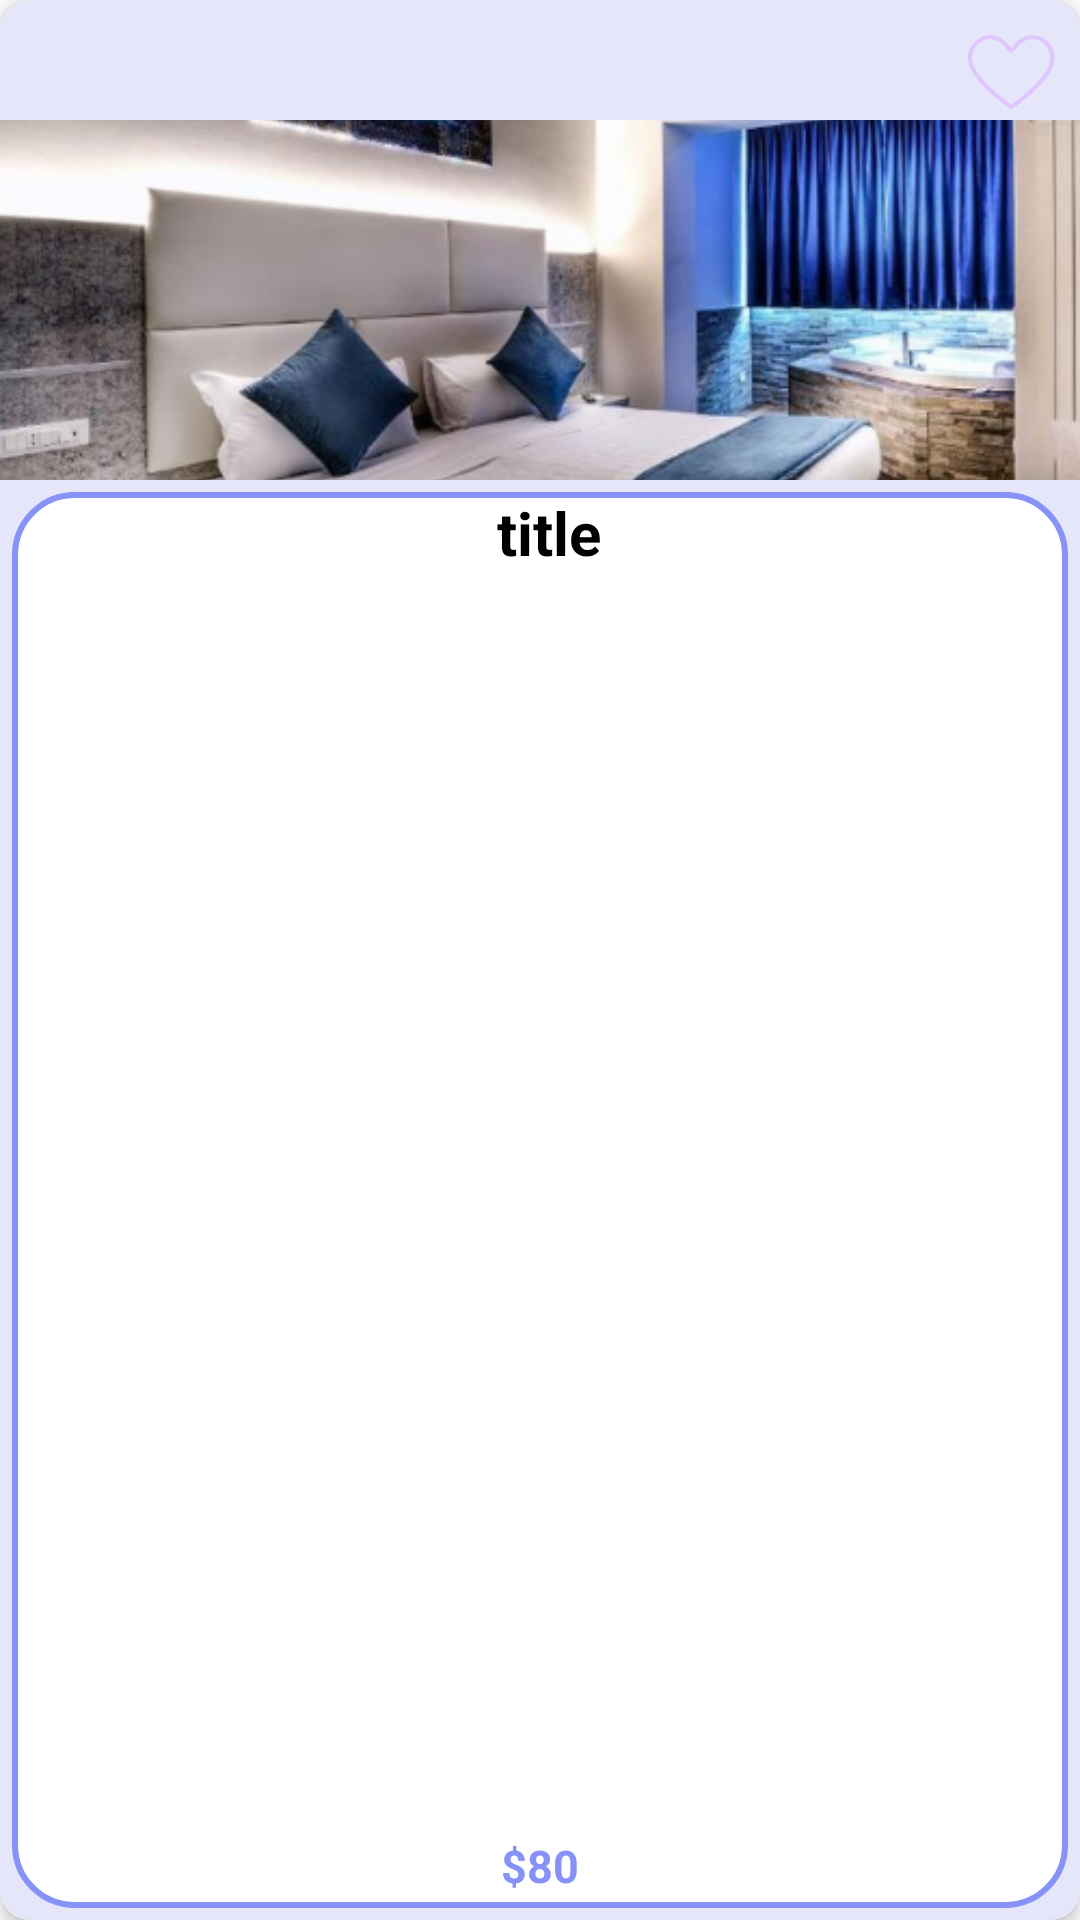

Screen size 1080*1920. Icon name, then its box in pixels as {"x1": x1, "y1": y1, "x2": x2, "y2": y2}:
heartyu: {"x1": 968, "y1": 35, "x2": 1054, "y2": 109}
